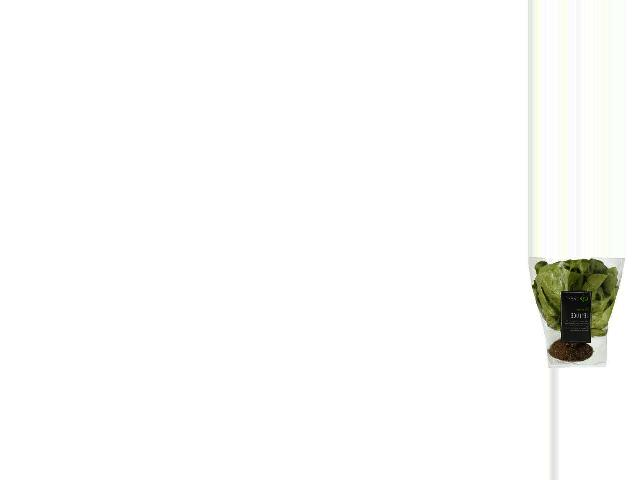lettuce: (528, 257, 622, 368)
